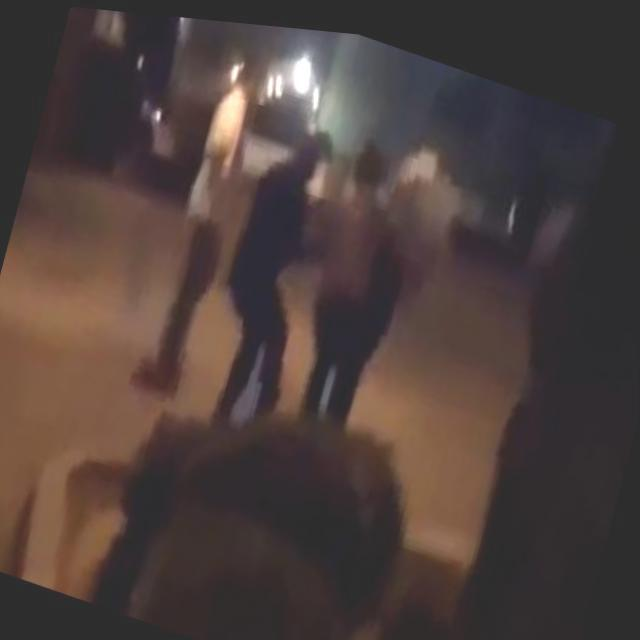fight: (195, 94, 438, 463)
